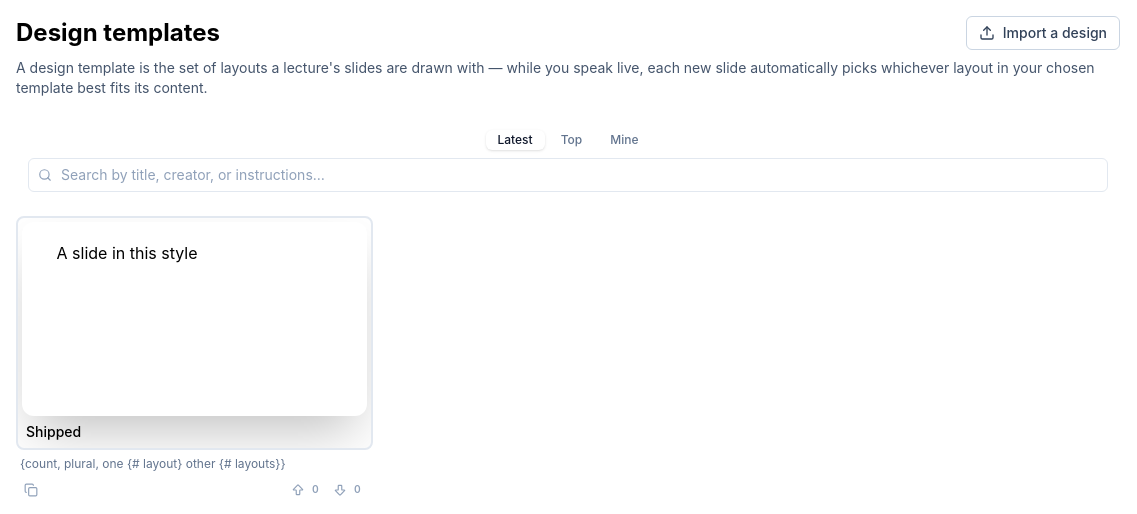
DesignTemplatesPage sorting and search (TMPL-28) › shows "no designs yet" when Mine is empty
The width and height of the screenshot is (1137, 514).
expect the text "Shipped" is shown: met, box [26, 422, 81, 442]
Click the button "Mine".
click(624, 140)  # box [598, 130, 650, 150]
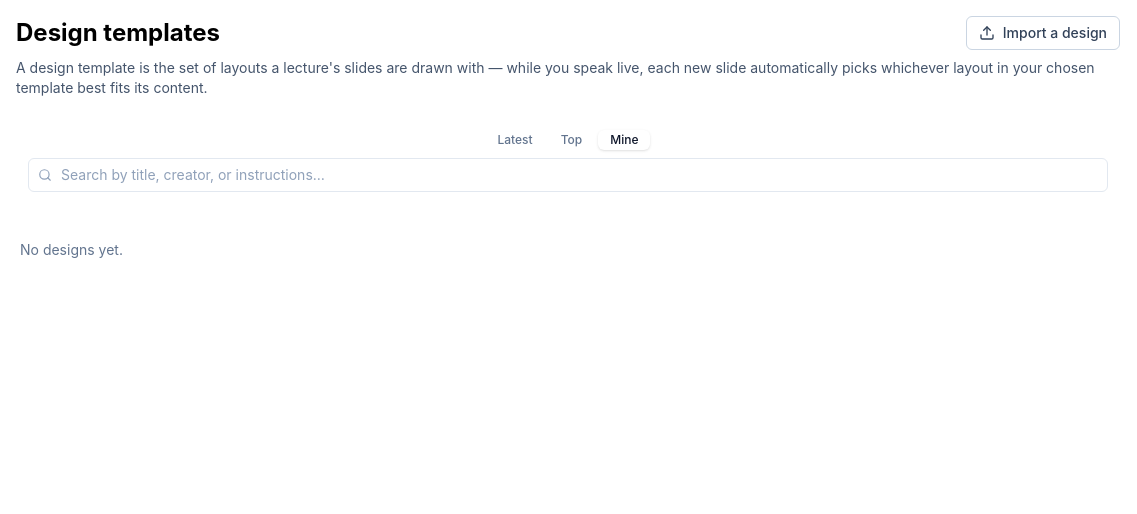
expect the text "No designs yet." is shown: met, box [20, 241, 123, 258]
